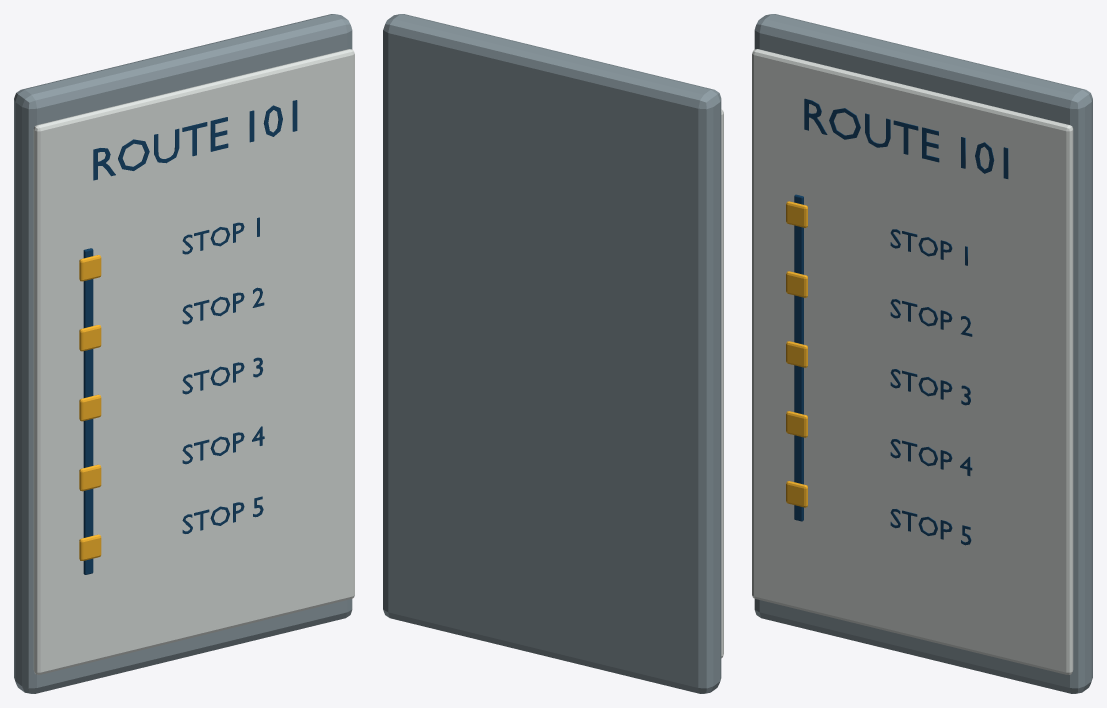
Rendered from edited.glb.
3 renders of one model, left to right at view 1: azimuth 30°, elevation 25°; view 2: azimuth 150°, elevation 25°; view 3: azimuth 330°, elevation 25°, orthographic.
Parts seen in each view (by area): view 1: PANEL_Inlay, PANEL_Frame, EDITABLE_Title, ROUTE_Line, EDITABLE_Stop.004, EDITABLE_Stop.002, EDITABLE_Stop, EDITABLE_Stop.003, EDITABLE_Stop.001, STOP_Dot.002, STOP_Dot, STOP_Dot.003 (+2 smaller); view 2: PANEL_Frame, PANEL_Inlay; view 3: PANEL_Inlay, PANEL_Frame, EDITABLE_Title, ROUTE_Line, EDITABLE_Stop.004, EDITABLE_Stop.003, EDITABLE_Stop, EDITABLE_Stop.002, EDITABLE_Stop.001.
Boxes of the visible parts, <box> form: PANEL_Inlay: <box>33,49,354,674</box>; PANEL_Frame: <box>14,14,352,693</box>; EDITABLE_Title: <box>93,100,297,180</box>; ROUTE_Line: <box>83,248,93,574</box>; EDITABLE_Stop.004: <box>182,426,264,464</box>; EDITABLE_Stop.002: <box>182,287,264,324</box>; EDITABLE_Stop: <box>182,496,263,533</box>; EDITABLE_Stop.003: <box>182,357,262,394</box>; EDITABLE_Stop.001: <box>182,217,259,254</box>; STOP_Dot.002: <box>79,394,101,421</box>; STOP_Dot: <box>79,255,101,281</box>; STOP_Dot.003: <box>79,464,101,491</box>; PANEL_Frame: <box>383,14,721,693</box>; PANEL_Inlay: <box>721,109,723,658</box>; PANEL_Inlay: <box>752,49,1073,674</box>; PANEL_Frame: <box>754,14,1092,693</box>; EDITABLE_Title: <box>804,98,1008,178</box>; ROUTE_Line: <box>794,194,803,521</box>; EDITABLE_Stop.004: <box>890,439,972,475</box>; EDITABLE_Stop.003: <box>890,369,970,405</box>; EDITABLE_Stop: <box>890,509,971,545</box>; EDITABLE_Stop.002: <box>890,299,972,336</box>; EDITABLE_Stop.001: <box>890,229,967,265</box>.
Bounding box in the file's own units: 0.69 × 1.2 × 0.0985.
